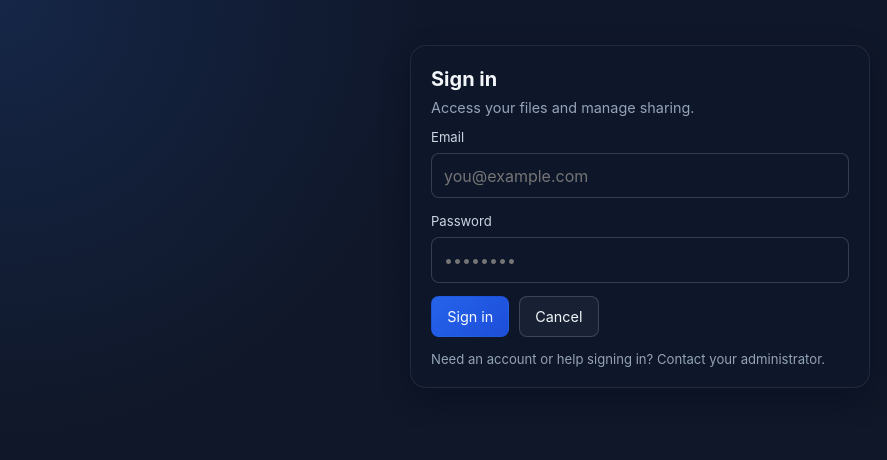
LoginPage › rejects empty password client-side
In the field labelled "Email": (640,176) [431, 153, 849, 198], type "admin@example.local"
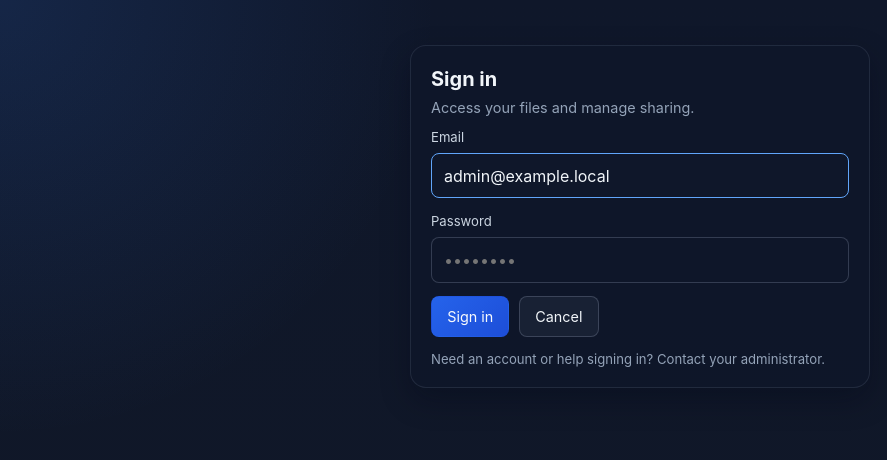
Click the button "Sign in": (470,317) [431, 296, 510, 337]
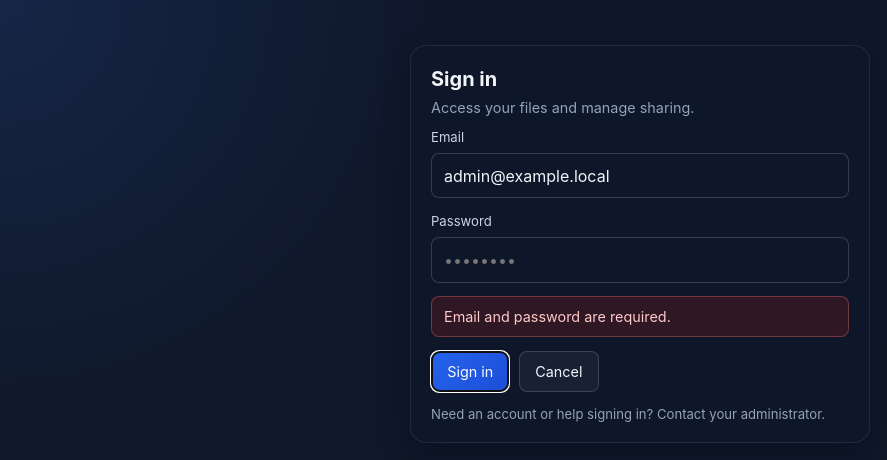
expect the message shows "Email and password": met, box [444, 308, 671, 325]
